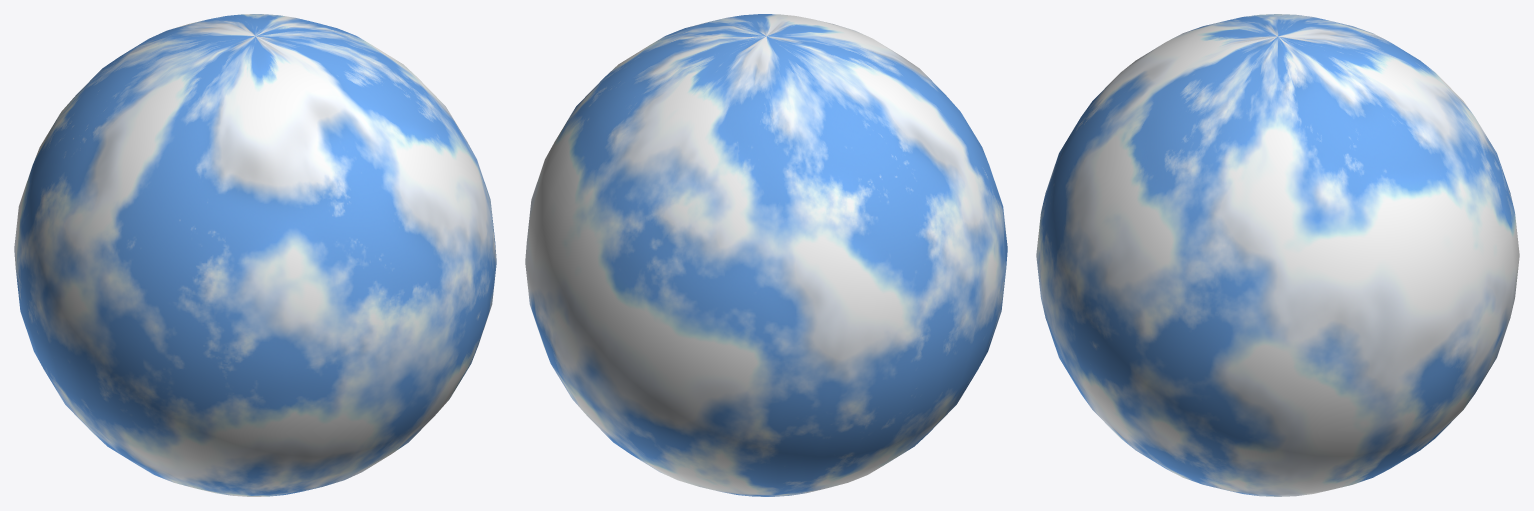
The model's file is Sky.obj.
3 views of the same model, side by side, from view 1: azimuth 30°, elevation 25°; view 2: azimuth 150°, elevation 25°; view 3: azimuth 270°, elevation 25° (orthographic).
Parts seen in each view (by area): view 1: Sky; view 2: Sky; view 3: Sky.
Part boxes in pixels (x1=…): Sky: x1=14, y1=14, x2=496, y2=496; Sky: x1=525, y1=14, x2=1007, y2=496; Sky: x1=1036, y1=14, x2=1519, y2=496.
Size of the model in its own units: 200 by 200 by 200.
1 material, 1 textured.
